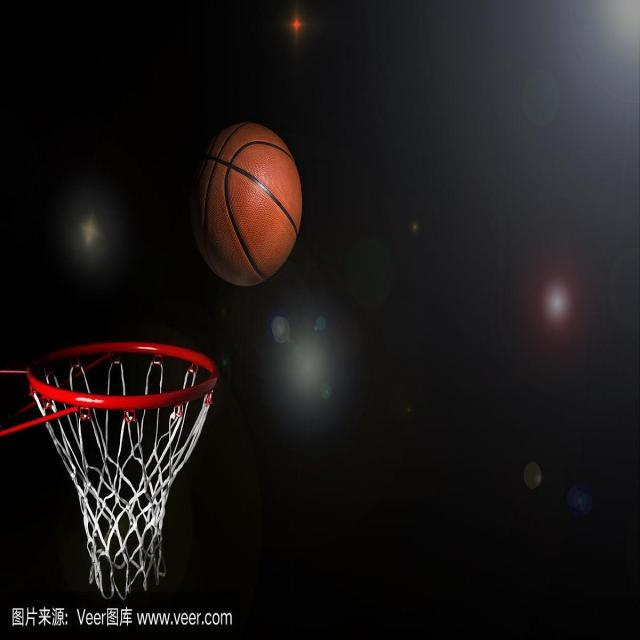rim: (200, 115, 304, 287)
